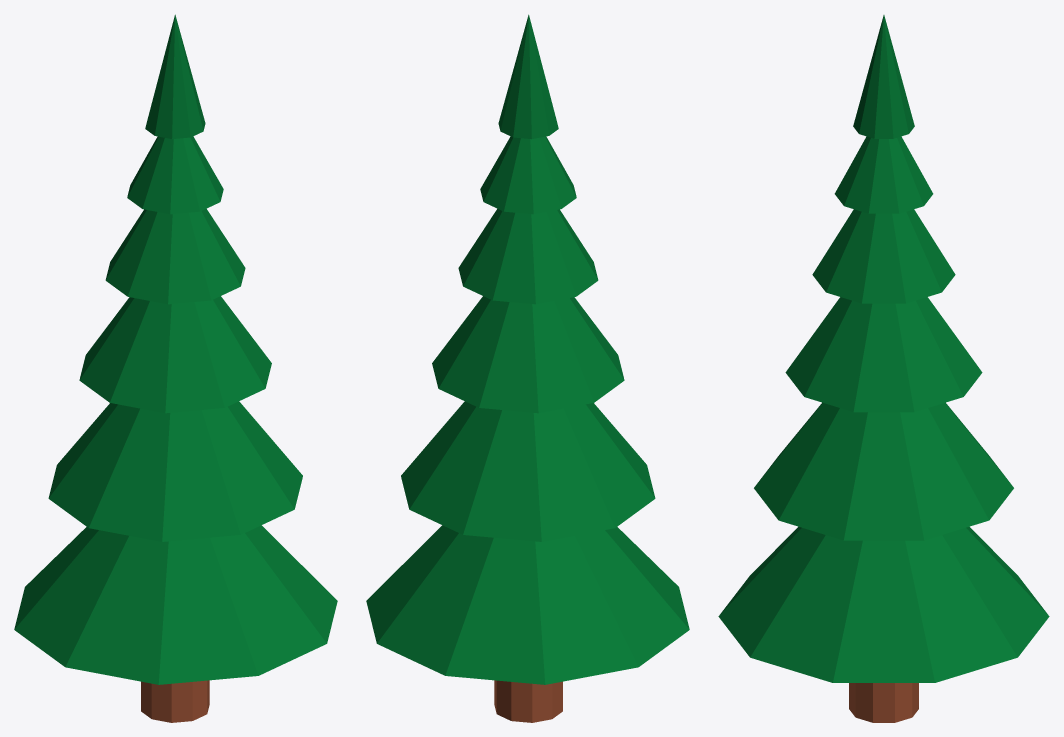
File: smreka.gltf
The picture shows the model from 3 angles, left to right: view 1: azimuth 30°, elevation 25°; view 2: azimuth 150°, elevation 25°; view 3: azimuth 270°, elevation 25°; orthographic projection.
Visible parts, largest first — view 1: Cylinder, Cylinder.001; view 2: Cylinder, Cylinder.001; view 3: Cylinder, Cylinder.001.
Part boxes in pixels (left/top/right/bottom): Cylinder: left=14, top=14, right=337, bottom=684; Cylinder.001: left=141, top=680, right=209, bottom=722; Cylinder: left=366, top=14, right=689, bottom=684; Cylinder.001: left=494, top=680, right=562, bottom=722; Cylinder: left=718, top=15, right=1049, bottom=682; Cylinder.001: left=849, top=683, right=918, bottom=722.
Size of the model in its own units: 5.74 by 13.97 by 6.03.
2 materials, 2 textured.
